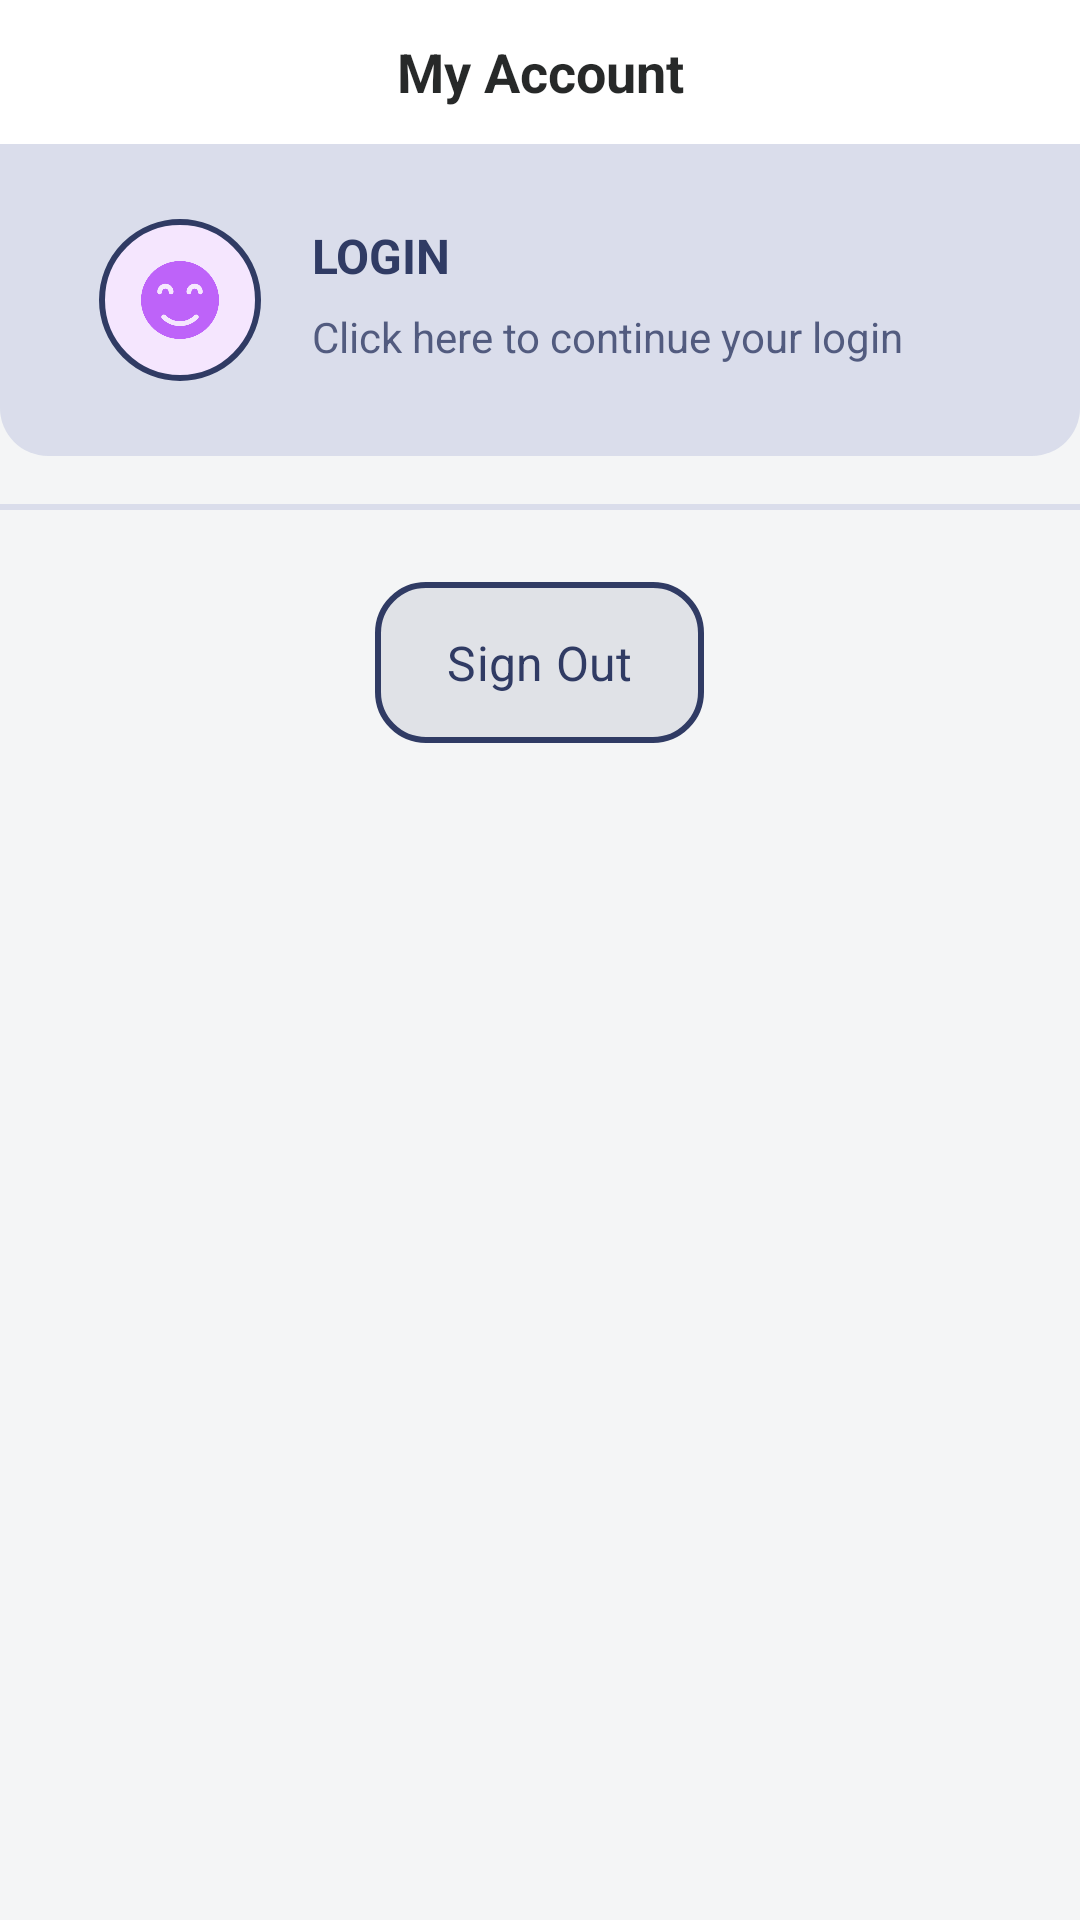

Point at icon controls on the screen. Image size 1080*1920, points as [x,y].
user: [180,300]
